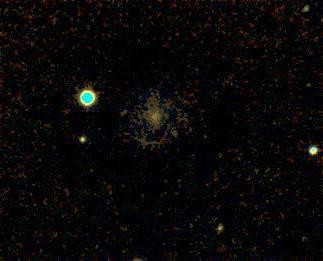star: (293, 74, 323, 104)
